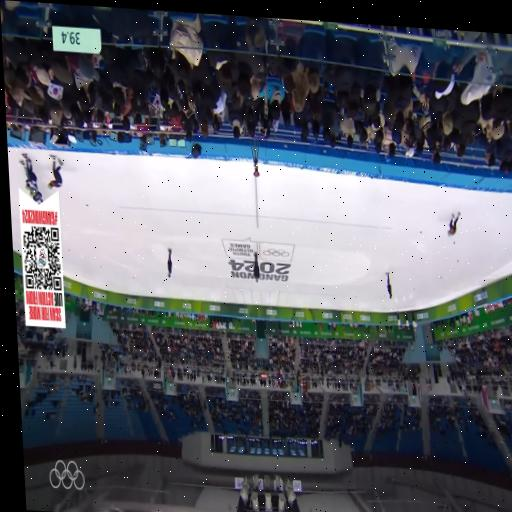Skater: (19, 153, 37, 195), (47, 155, 61, 188), (447, 212, 459, 235)
